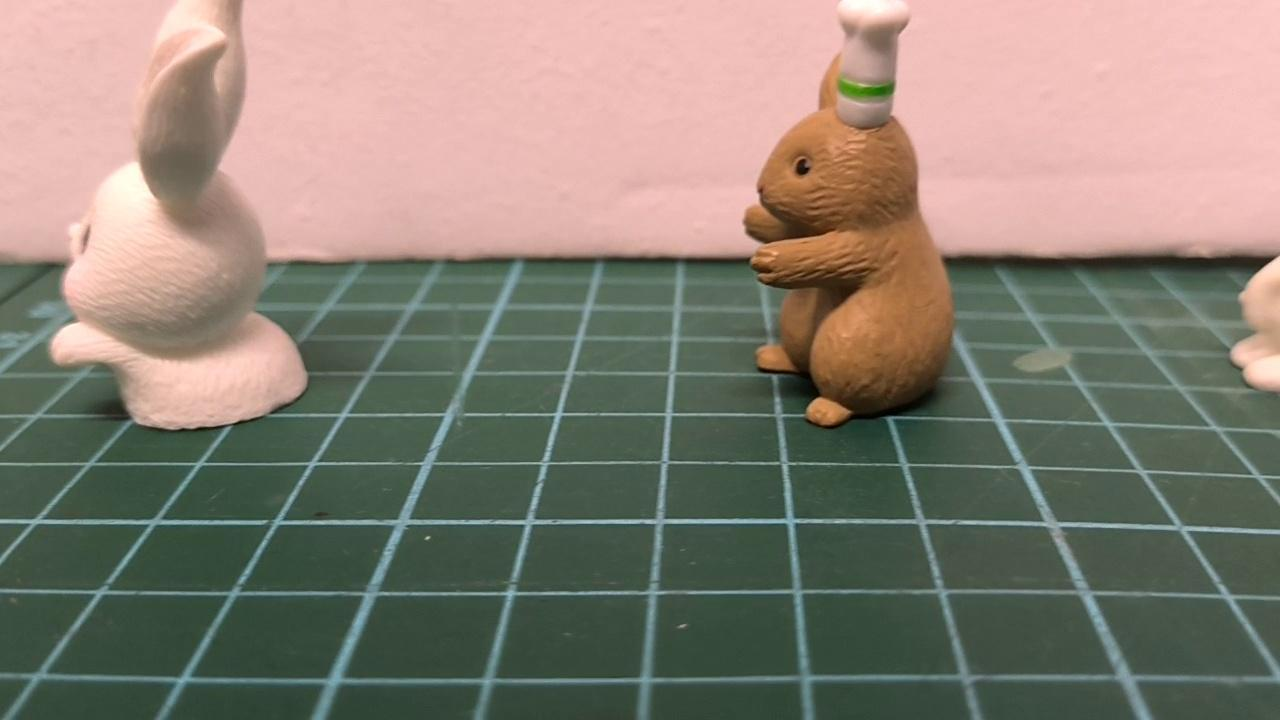pet: (50, 0, 312, 429), (744, 46, 954, 428)
